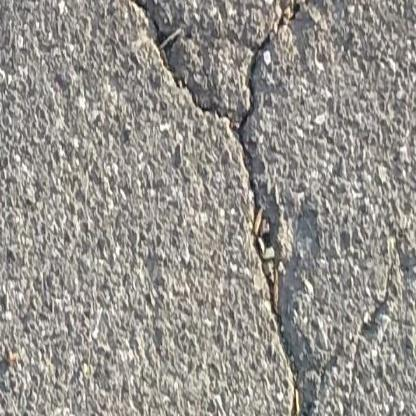Cracks: (203, 0, 337, 416), (91, 0, 387, 165)
